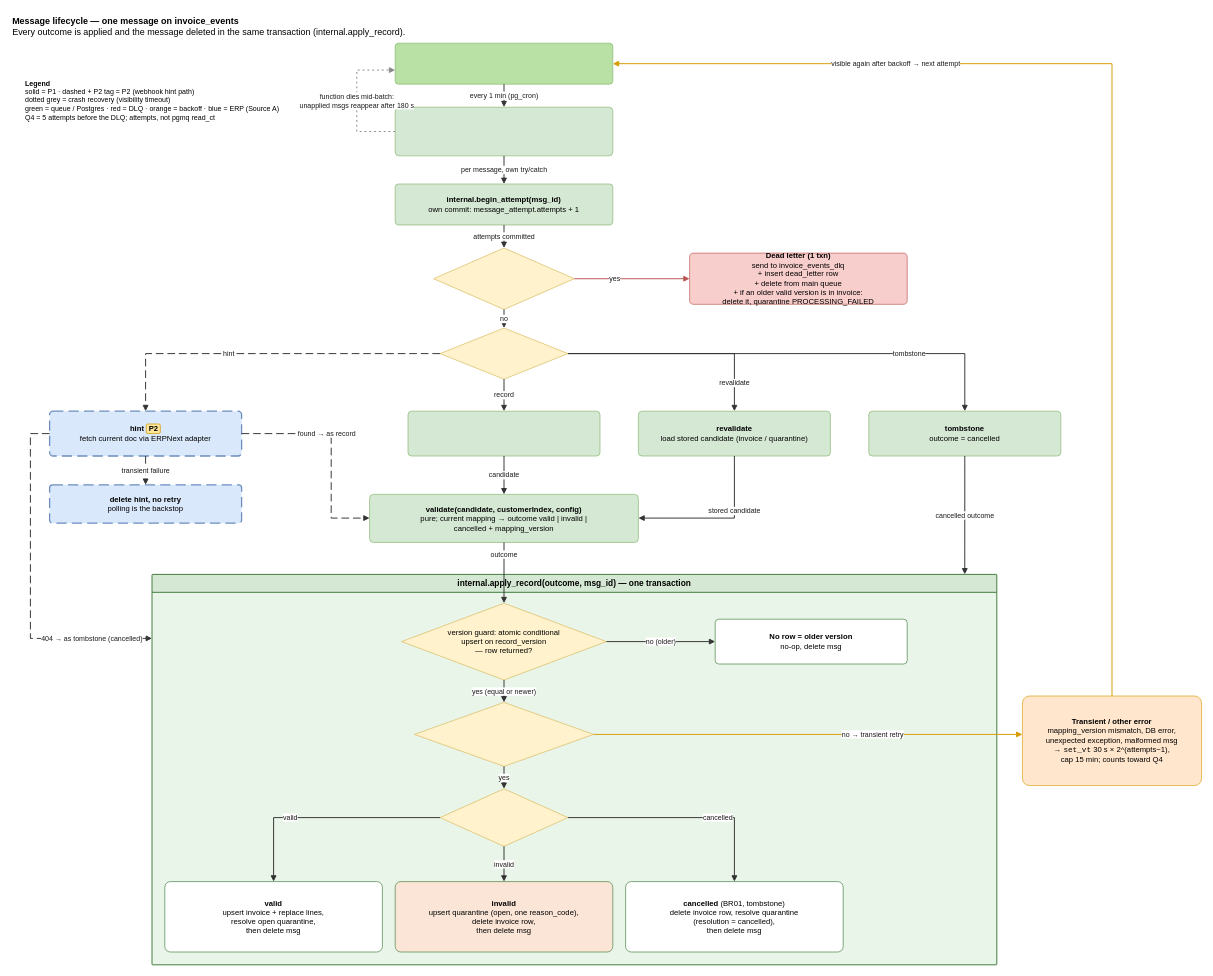
Some shapes in this 1213 by 976 pixel diagram are drawn without their labels. The shapes that lost their labels are listed below. From the top down, each one's centre as x and y in pixels, then its label:
[504,63]: In queue invoice_events record · hint P2 · tombstone · revalidate
[504,131]: pgmq.read(vt = 180 s, qty = 10) invoice-consumer message invisible for 180 s
[503,278]: attempts > 5 (Q4) ?
[503,353]: kind?
[503,433]: record adapter → candidate
[504,734]: outcome mapping_version = current?
[503,817]: outcome?
